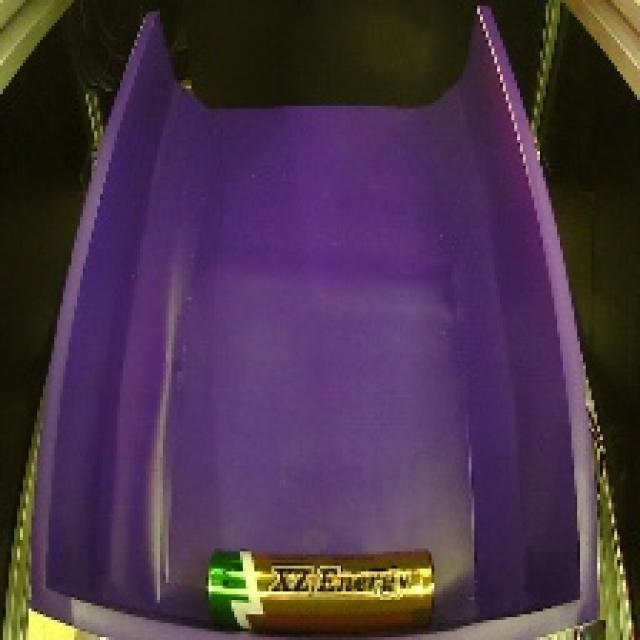battery: (186, 536, 442, 639)
